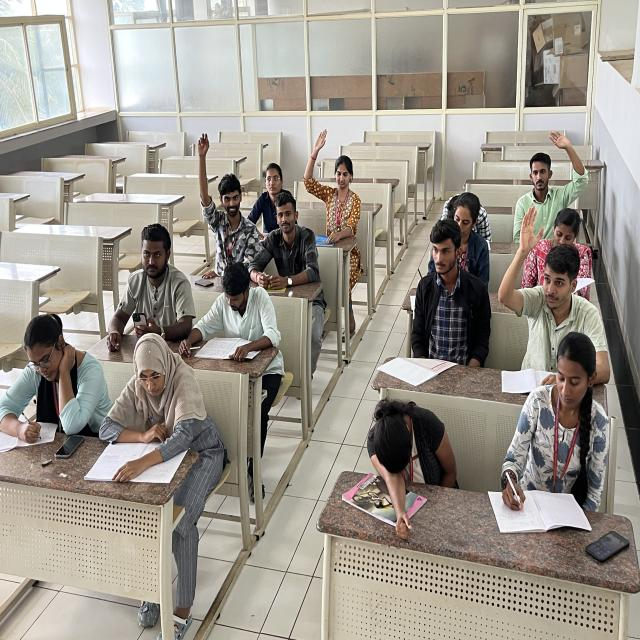Hand Rising: (496, 206, 602, 353), (192, 128, 258, 270), (303, 124, 362, 242), (510, 130, 590, 217)
Reading: (94, 335, 212, 479), (192, 254, 284, 368)
Sleeping: (356, 388, 463, 514)
Using Phone: (102, 222, 194, 348)
Writing: (500, 330, 617, 533), (0, 312, 100, 452)
